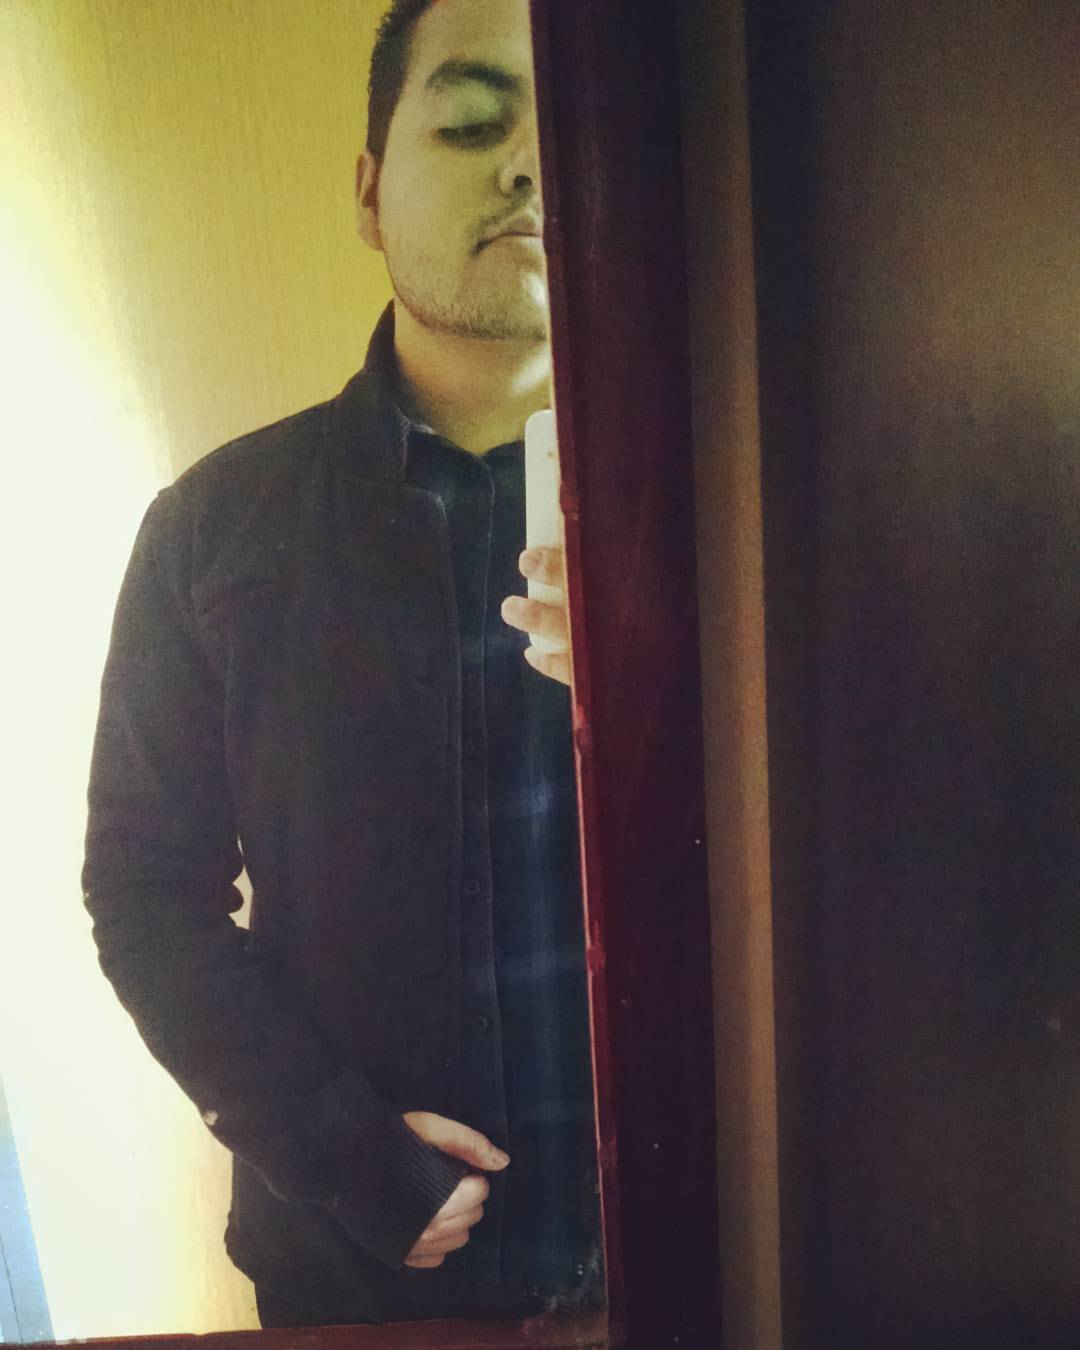Yoshi: (276, 1, 586, 417)
